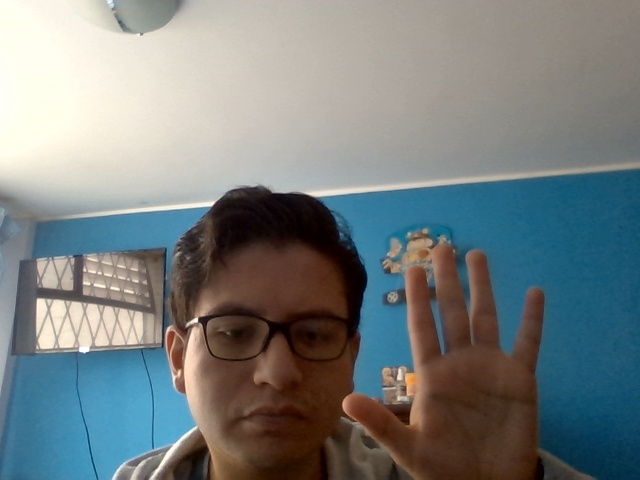hola: (353, 242, 562, 464)
